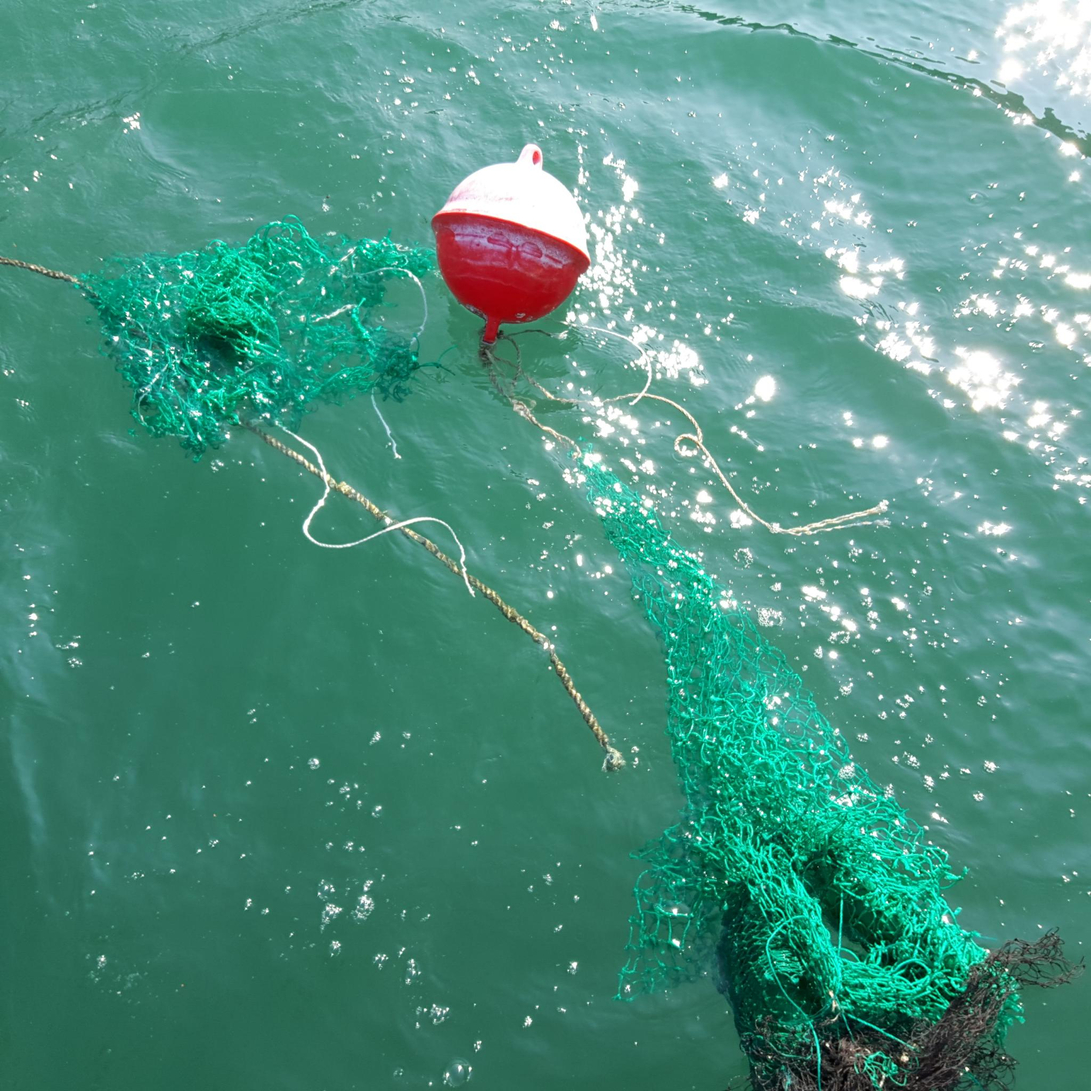sampah_terapung: (568, 438, 1091, 1091), (252, 427, 628, 772), (74, 215, 458, 464), (480, 319, 892, 537), (432, 145, 591, 345), (370, 267, 428, 459), (1, 257, 73, 283)
